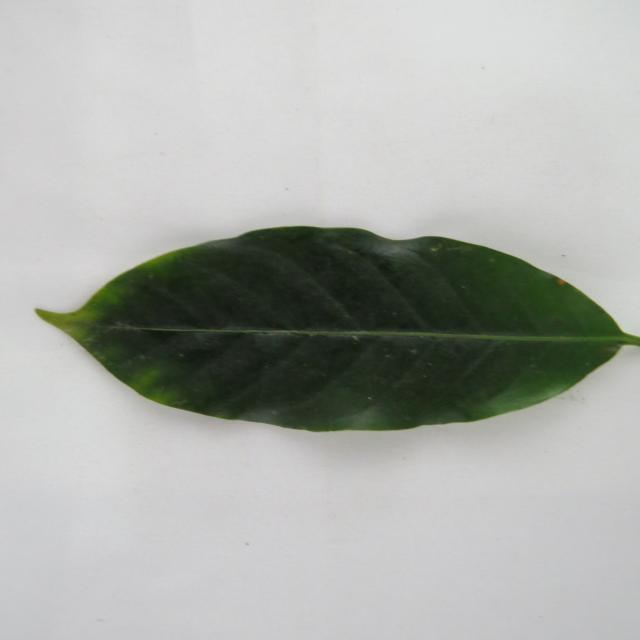DeficienciaNutricional-Potasio: (37, 226, 638, 431)
